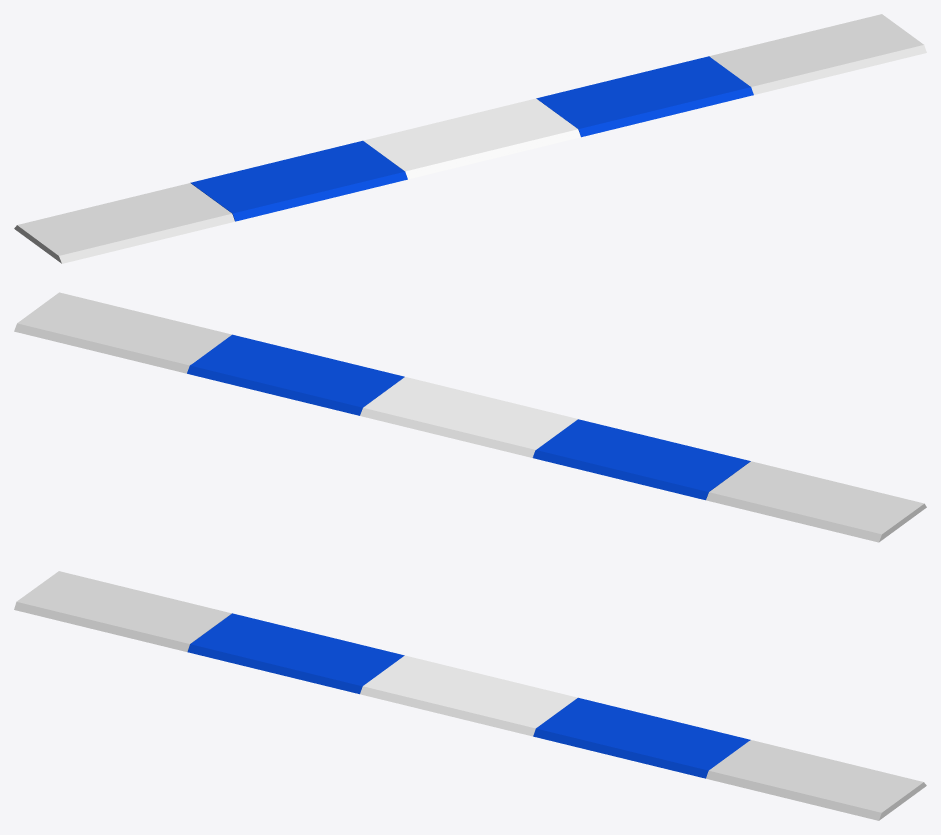
The model's file is roadCornerLargeblue.fbx.
The picture shows the model from 3 angles, top to bottom: view 1: azimuth 30°, elevation 25°; view 2: azimuth 150°, elevation 25°; view 3: azimuth 330°, elevation 25°; orthographic projection.
Parts seen in each view (by area): view 1: Cube.003, Cube, Cube.002, Cube.004, Cube.001; view 2: Cube.003, Cube, Cube.002, Cube.004, Cube.001; view 3: Cube.002, Cube.003, Cube, Cube.004, Cube.001.
Part boxes in pixels (box(x1,y1,x2,y2)): Cube.003: box(14, 183, 234, 263); Cube: box(363, 98, 580, 179); Cube.002: box(709, 14, 926, 94); Cube.004: box(536, 56, 753, 137); Cube.001: box(190, 140, 407, 221); Cube.003: box(706, 461, 926, 542); Cube: box(360, 377, 577, 457); Cube.002: box(14, 292, 231, 373); Cube.004: box(187, 334, 404, 415); Cube.001: box(532, 419, 750, 500); Cube.002: box(706, 740, 926, 820); Cube.003: box(14, 571, 231, 651); Cube: box(360, 655, 577, 736); Cube.004: box(533, 697, 750, 778); Cube.001: box(187, 613, 404, 694).
Size of the model in its own units: 2078 by 13.87 by 200.
